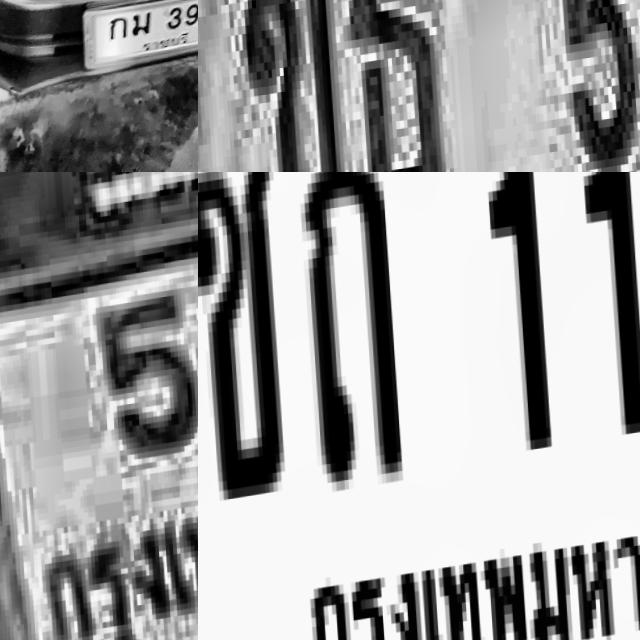license-plate: (198, 172, 640, 640), (0, 172, 198, 640), (198, 0, 640, 172), (81, 0, 198, 76)
